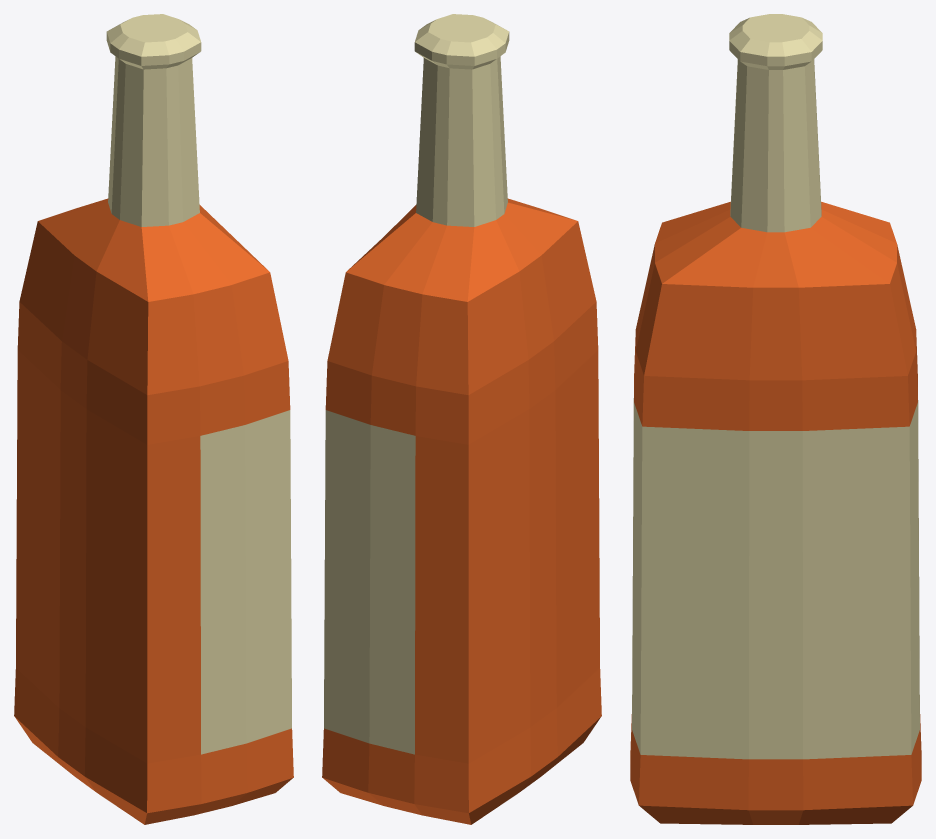
3 renders of one model, left to right at view 1: azimuth 30°, elevation 25°; view 2: azimuth 150°, elevation 25°; view 3: azimuth 270°, elevation 25°, orthographic. The views are drawn at different scales.
Parts seen in each view (by area): view 1: F-27; view 2: F-27; view 3: F-27.
Part boxes in pixels (<box>): F-27: <box>14,14,293,824</box>; F-27: <box>322,14,601,824</box>; F-27: <box>630,14,921,824</box>.
Bounding box in the file's own units: 16.34 × 70.02 × 24.26.
